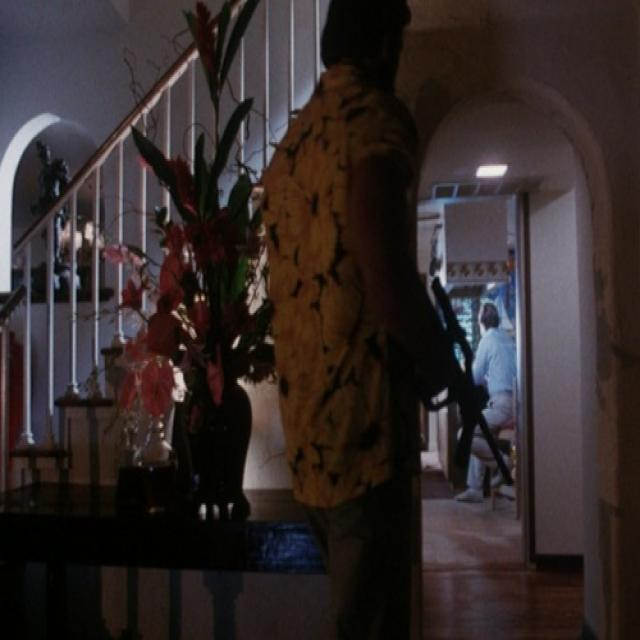rifle: (397, 269, 527, 498)
